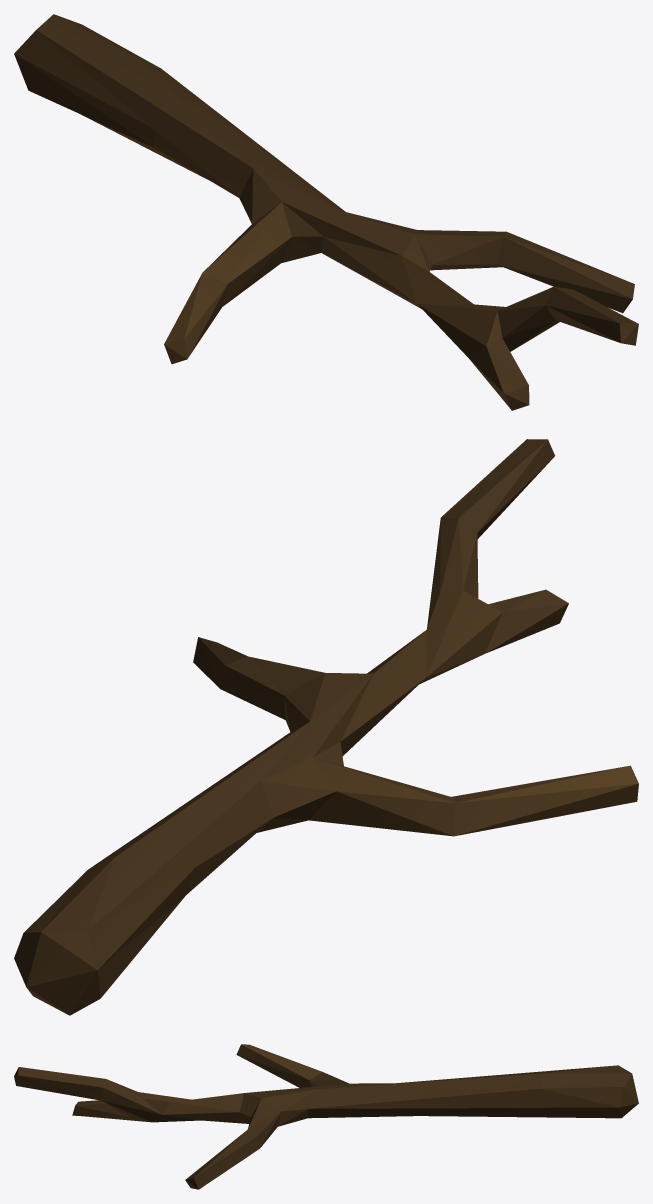
File: Branch_03.fbx
3 views of the same model, one above another, from view 1: azimuth 30°, elevation 25°; view 2: azimuth 150°, elevation 25°; view 3: azimuth 270°, elevation 25° (orthographic). The views are drawn at different scales.
Parts seen in each view (by area): view 1: Branch_03; view 2: Branch_03; view 3: Branch_03.
Part boxes in pixels (x1,y1,x2,y2): Branch_03: (14, 14, 638, 410); Branch_03: (14, 439, 638, 1015); Branch_03: (14, 1044, 638, 1189).
Bounding box in the file's own units: 0.8127 × 0.2338 × 1.69.
